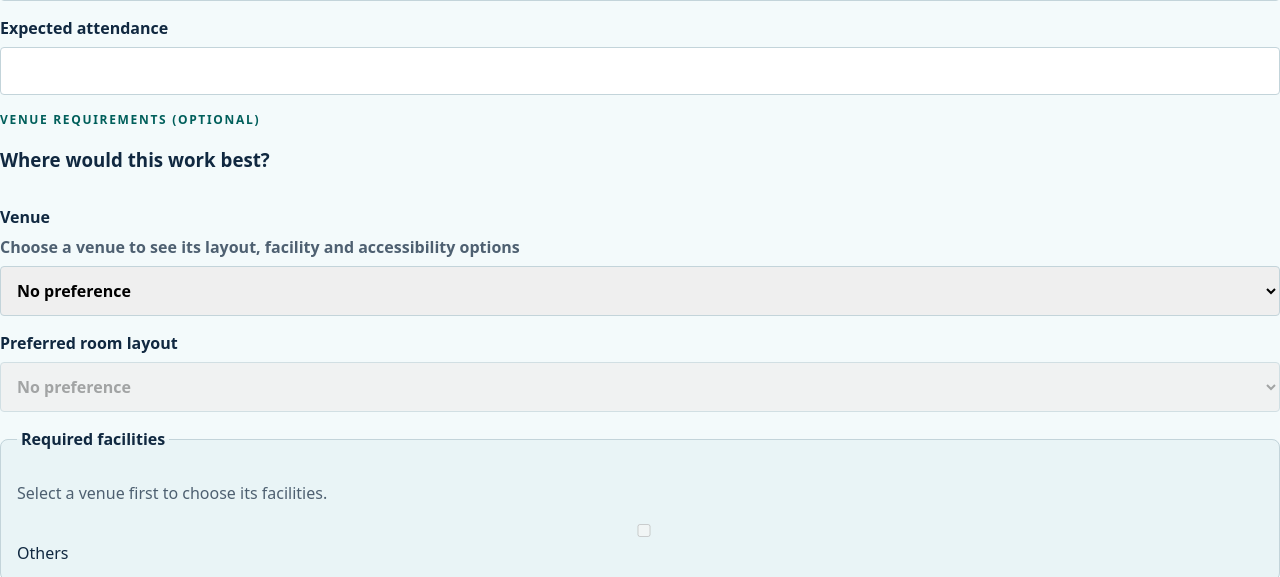
it: clears previously chosen layout, facility and accessibility selections when the venue changes
(page scrolled)
Step 1. Select "Harbour Hall" in the dropdown labelled "Venue" → (640, 291), box [0,266,1279,316]
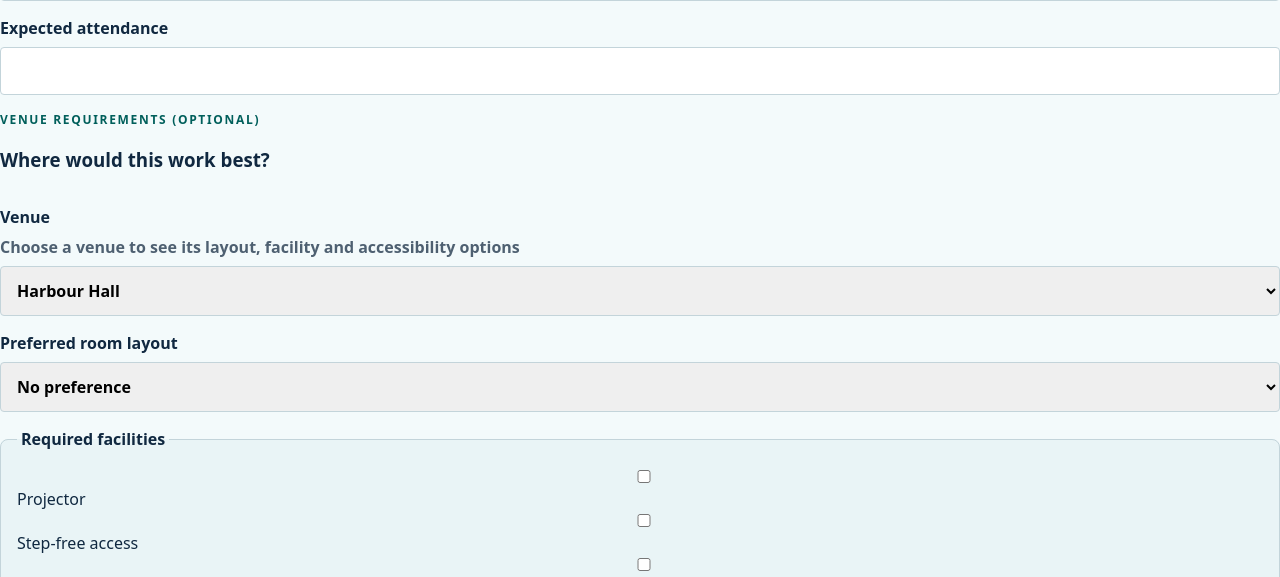
Now the dropdown labelled "Preferred room layout" is enabled
Step 2. Select "Theatre" in the dropdown labelled "Preferred room layout" → (640, 387), box [0,362,1279,412]
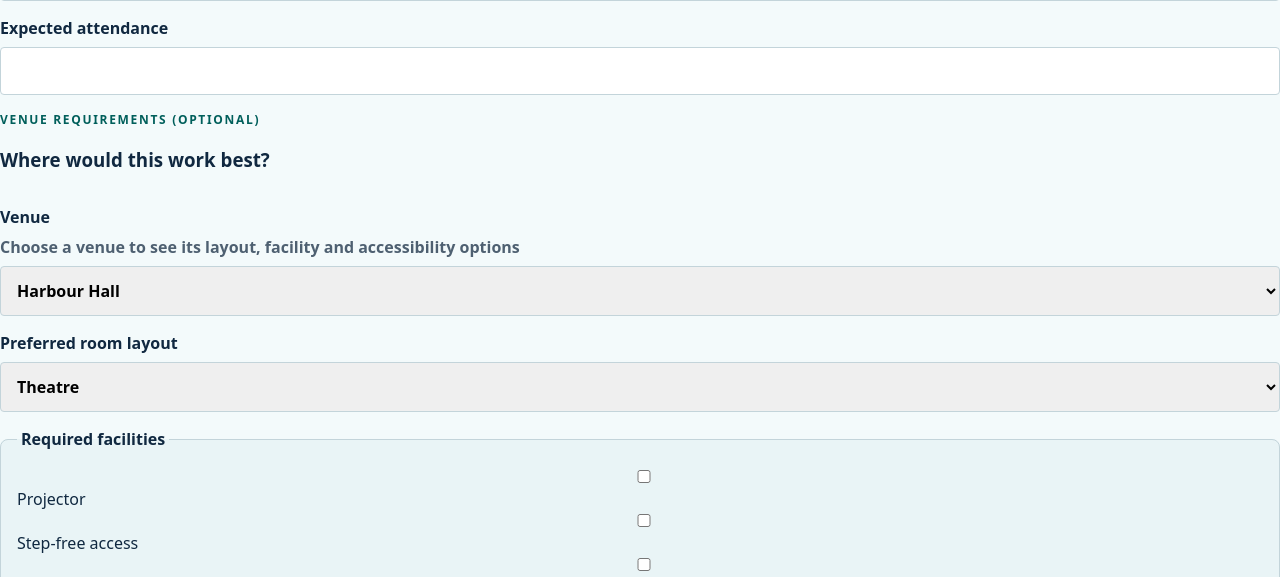
Step 3. Click the checkbox labelled "Projector" → (644, 477), box [21,470,1267,483]
(page scrolled)
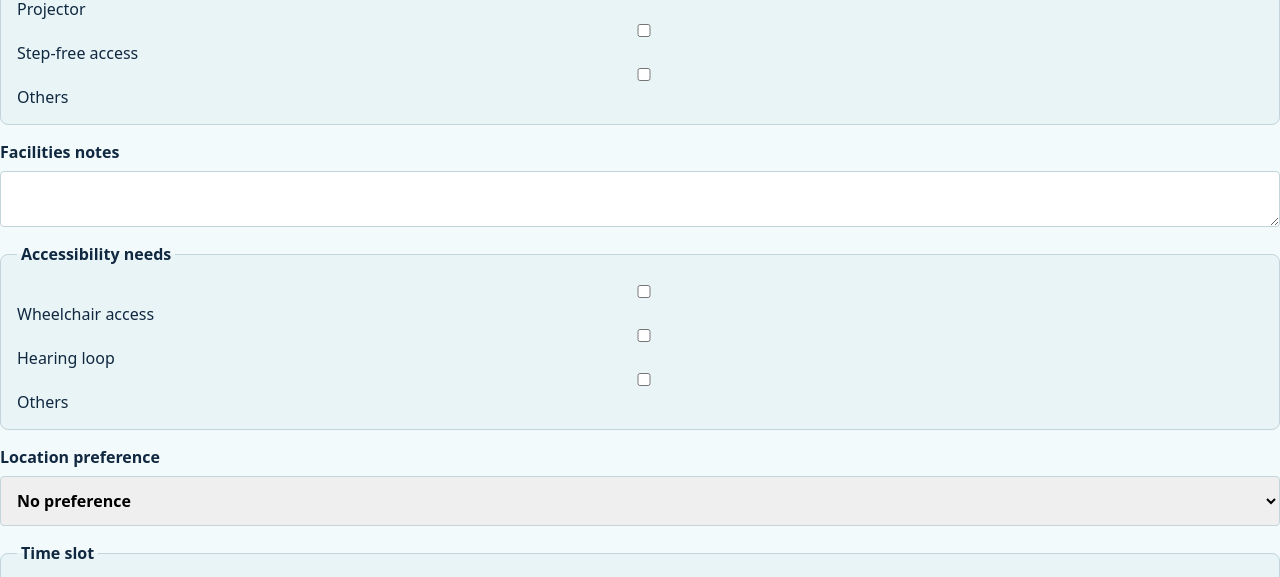
Step 4. Click the checkbox labelled "Wheelchair access" → (644, 292), box [21,285,1267,298]
(page scrolled)
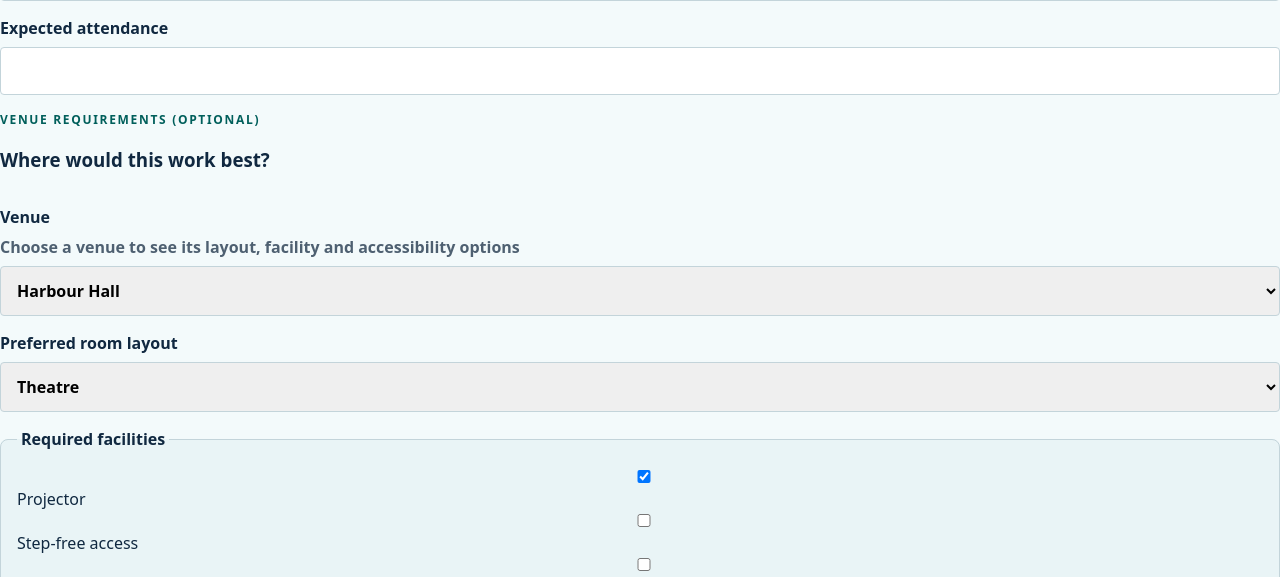
Step 5. Select "Garden Room" in the dropdown labelled "Venue" → (640, 291), box [0,266,1279,316]
(page scrolled)
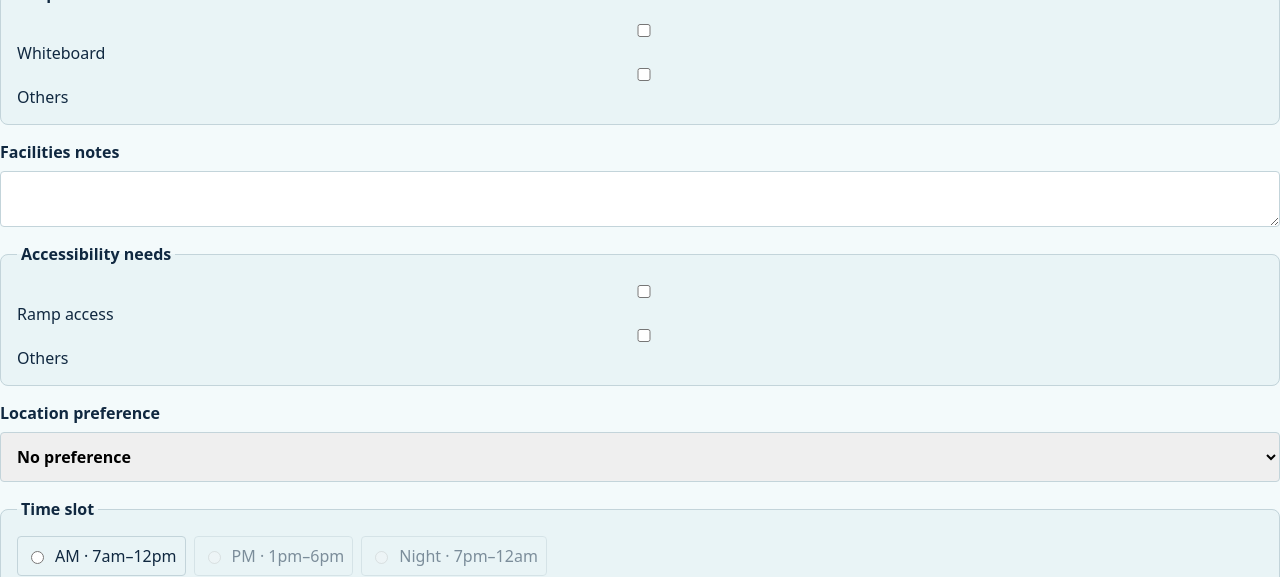
Now the checkbox labelled "Whiteboard" is not checked, box [21,24,1267,37]
Now the checkbox labelled "Ramp access" is not checked, box [21,285,1267,298]
Now the label labelled "Projector" is gone
